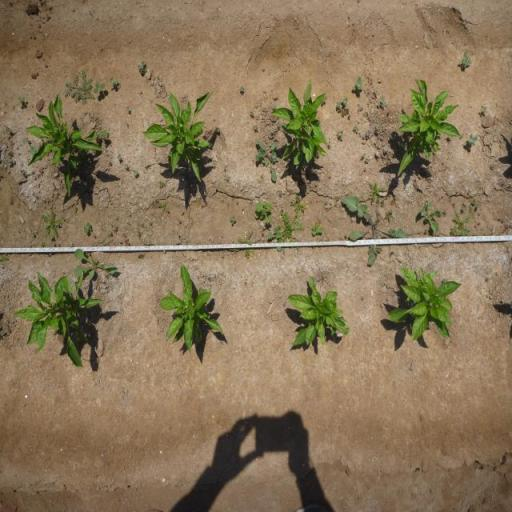plant: (23, 89, 104, 200), (13, 271, 102, 368), (143, 89, 213, 181), (397, 76, 459, 177), (157, 262, 223, 354), (385, 264, 462, 342), (272, 78, 328, 170), (287, 274, 351, 348), (72, 248, 118, 278)
weed: (339, 193, 410, 266), (60, 68, 94, 106), (254, 136, 280, 184), (419, 199, 442, 233), (278, 212, 304, 242), (40, 210, 65, 236), (450, 211, 474, 236), (239, 230, 255, 260), (254, 199, 272, 223), (368, 181, 387, 200), (292, 193, 306, 214), (336, 97, 349, 117), (458, 50, 472, 68), (96, 127, 110, 143), (266, 227, 280, 243), (93, 80, 106, 95), (310, 223, 324, 236), (465, 133, 478, 147), (352, 76, 364, 91), (135, 59, 147, 74), (254, 149, 264, 165), (157, 200, 169, 213), (384, 208, 395, 222), (0, 253, 10, 266), (109, 76, 119, 88), (378, 96, 387, 109), (16, 95, 26, 106), (5, 156, 15, 167), (83, 222, 92, 233), (35, 170, 44, 180), (398, 139, 408, 148), (480, 105, 488, 115), (229, 214, 236, 225), (112, 224, 119, 234), (124, 238, 132, 246), (134, 230, 142, 238), (337, 130, 344, 139), (272, 152, 278, 162), (20, 169, 28, 176), (30, 230, 38, 237), (372, 88, 379, 96), (390, 132, 396, 141), (133, 168, 138, 178), (365, 128, 370, 138), (5, 126, 12, 133), (52, 241, 60, 247), (158, 180, 164, 188), (116, 153, 122, 161), (374, 199, 380, 207), (353, 124, 359, 132), (29, 146, 36, 152), (72, 205, 78, 212), (238, 86, 245, 92), (107, 230, 112, 238), (380, 200, 385, 208), (40, 242, 46, 248), (442, 210, 448, 216), (360, 152, 366, 158), (48, 234, 54, 239), (69, 242, 74, 248), (124, 163, 129, 169), (215, 126, 220, 132), (451, 202, 456, 208), (249, 110, 254, 116), (376, 124, 380, 131), (472, 200, 477, 205), (491, 164, 496, 169), (122, 232, 126, 238), (462, 206, 466, 212), (500, 217, 504, 223), (364, 158, 370, 162), (127, 105, 130, 112), (283, 301, 286, 308), (92, 234, 97, 238), (272, 104, 276, 109), (254, 124, 258, 129), (25, 136, 28, 142), (424, 228, 427, 234), (347, 114, 350, 120), (213, 162, 216, 167), (478, 221, 481, 226), (328, 140, 330, 147), (278, 121, 280, 128), (182, 210, 184, 216), (236, 200, 238, 204)
